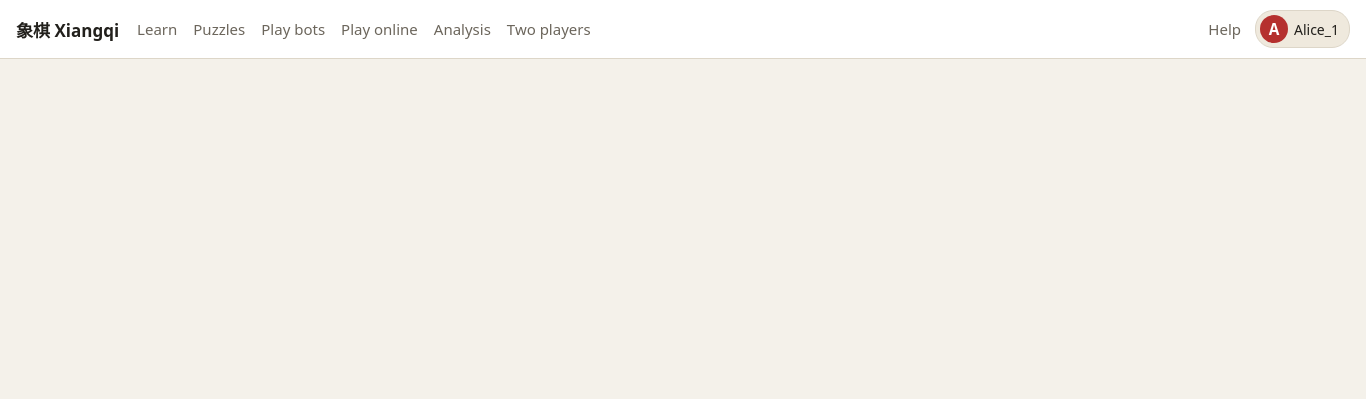
Test: header account menu › shows the signed-in player's menu, and signs out on this device
The width and height of the screenshot is (1366, 399).
Expected: the text "My stats" is not shown
Click the button "A Alice_1".
click(1302, 29)  # box [1255,10,1350,48]
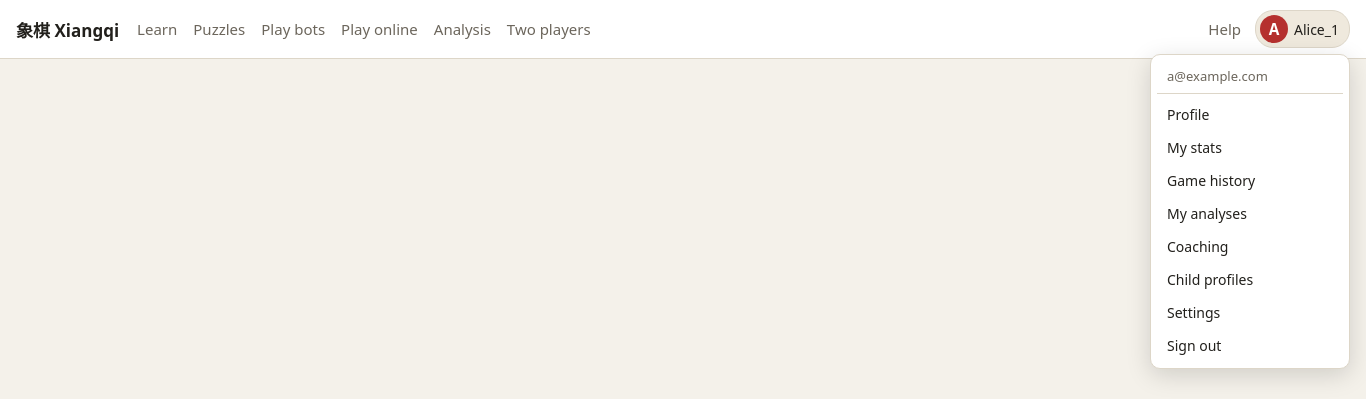
Result: the list item "a@example.com" is shown at [1157,61,1343,94]
Result: the link "Game history" is shown at [1167,171,1255,190]
Click the button "Sign out".
click(1250, 346)  # box [1157,329,1343,362]
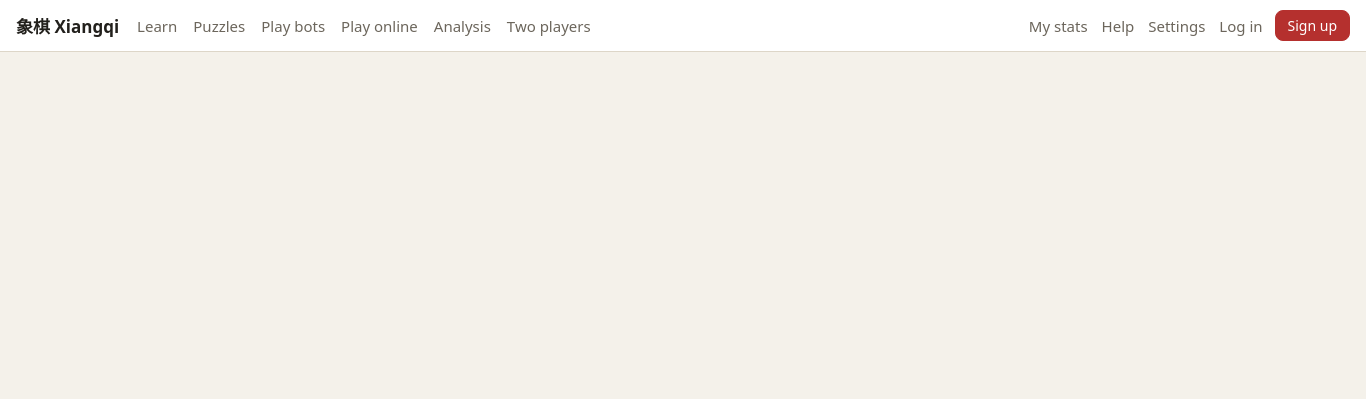
Result: the link "Log in" is shown at [1219,16,1262,36]
